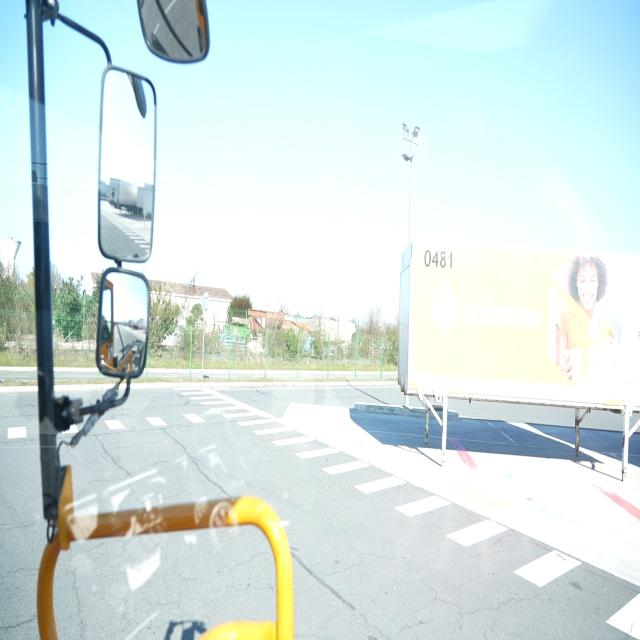Code: (422, 247, 456, 274)
